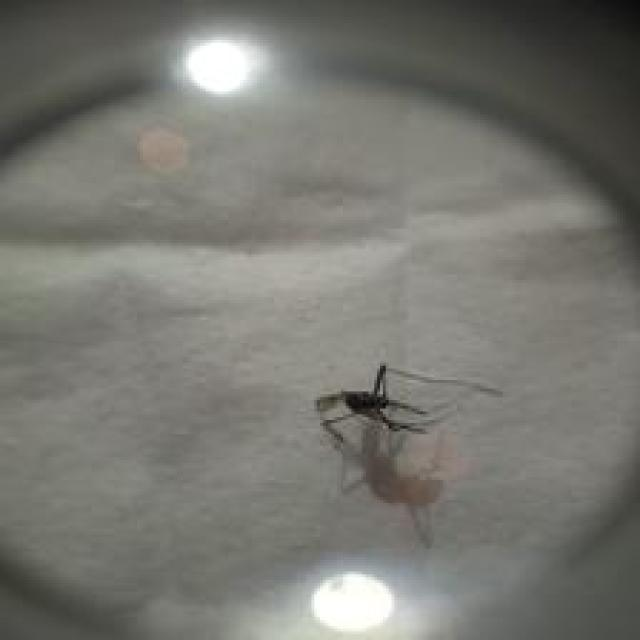Aedes albopictus: (313, 363, 504, 548)
